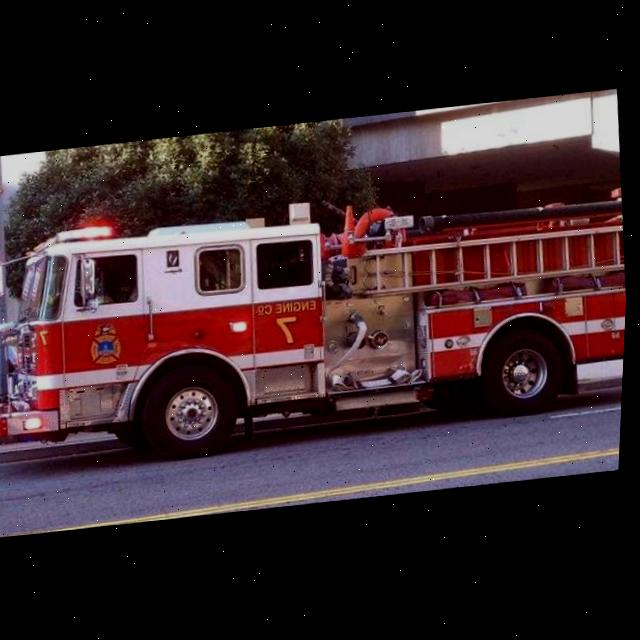emergency: (0, 168, 634, 476)
